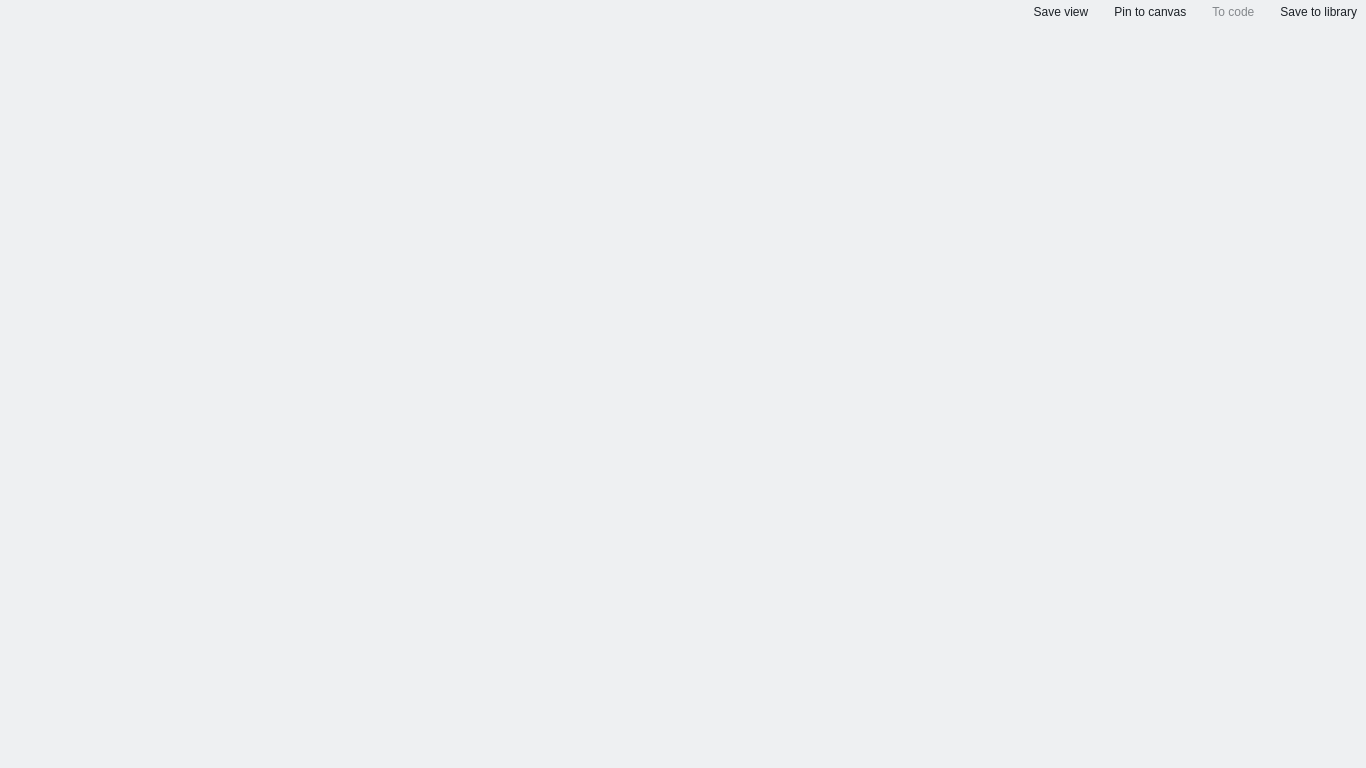
Test: StepActions save to library › sends no dataset binding for a view without datasets
This screenshot has width=1366, height=768.
Click the button "Save to library": (1319,12) [1271,0,1365,24]
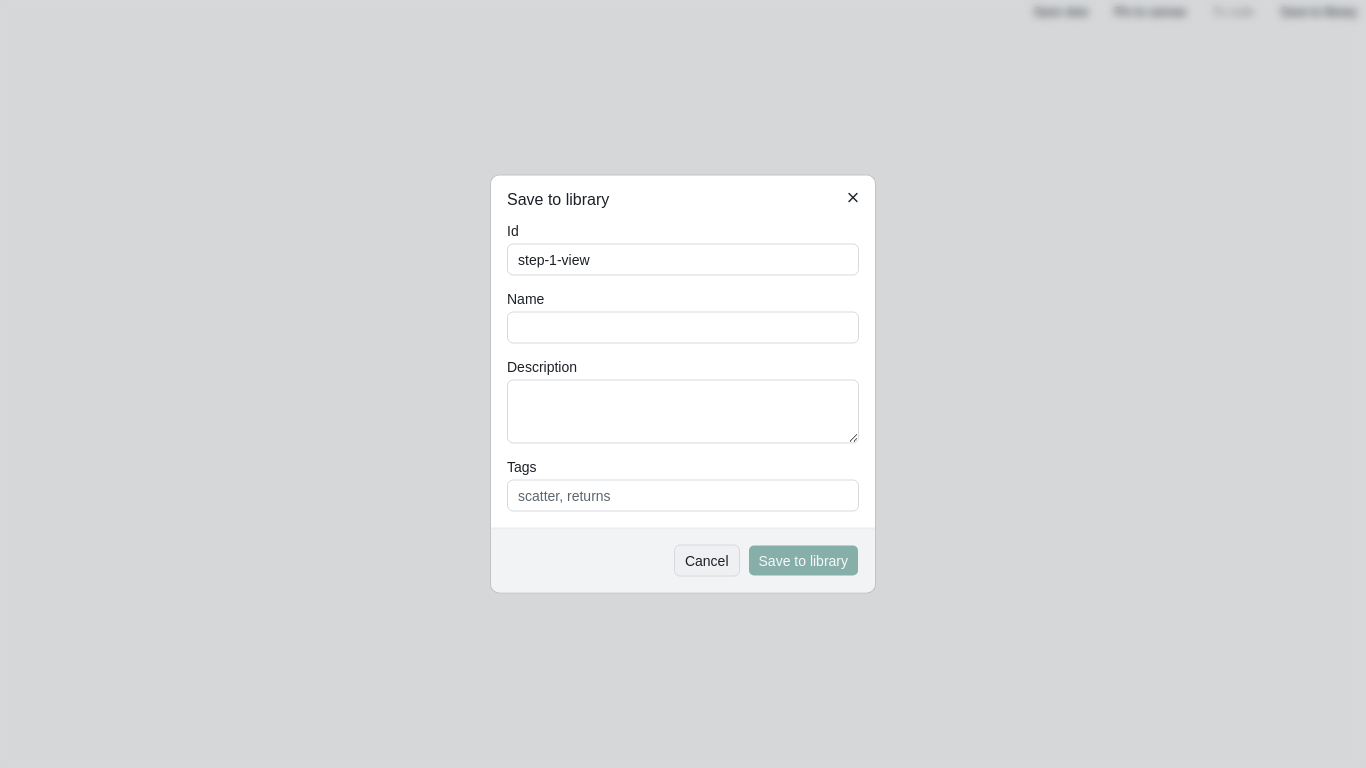
In the field labelled "Name": (683,328) [507,312,859,344], type "My view"
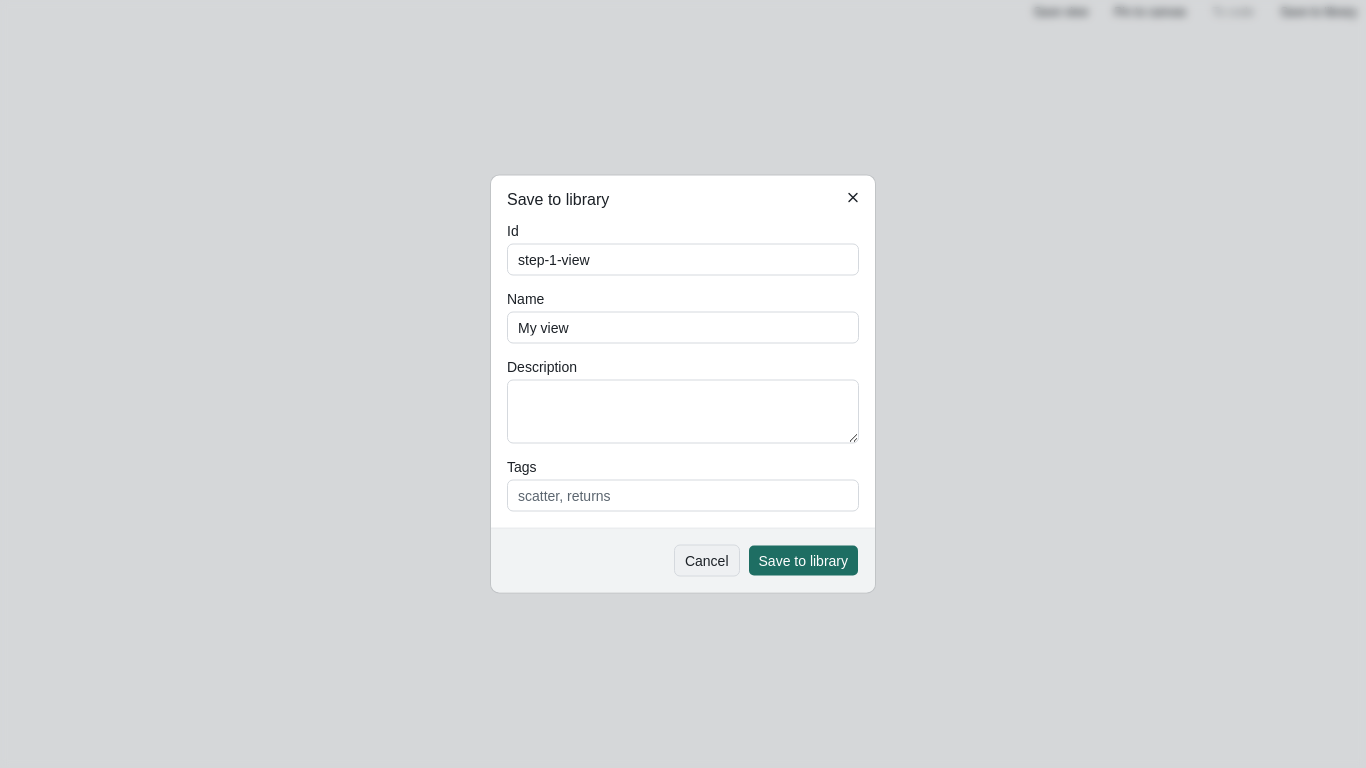
Click the button "Save to library": (803,560) [748,544,859,576]
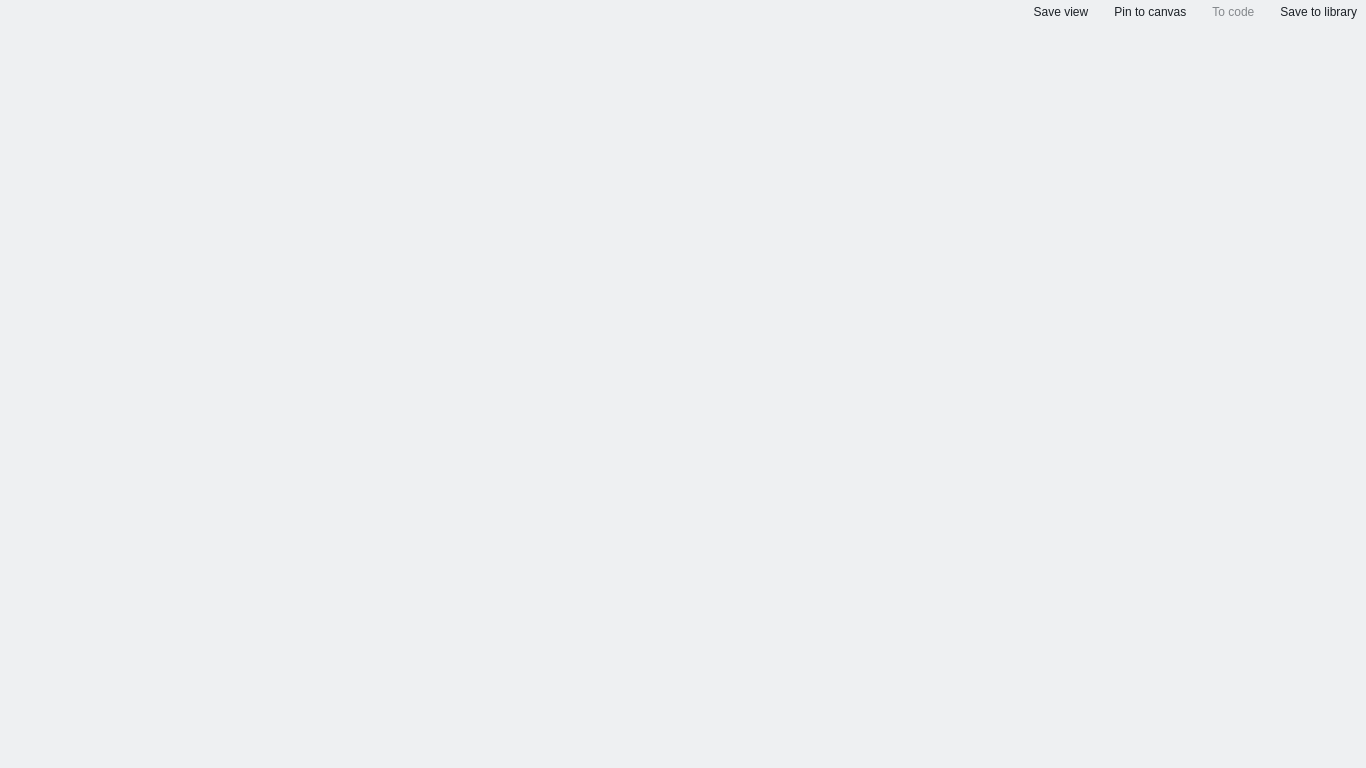
Result: the dialog is gone
